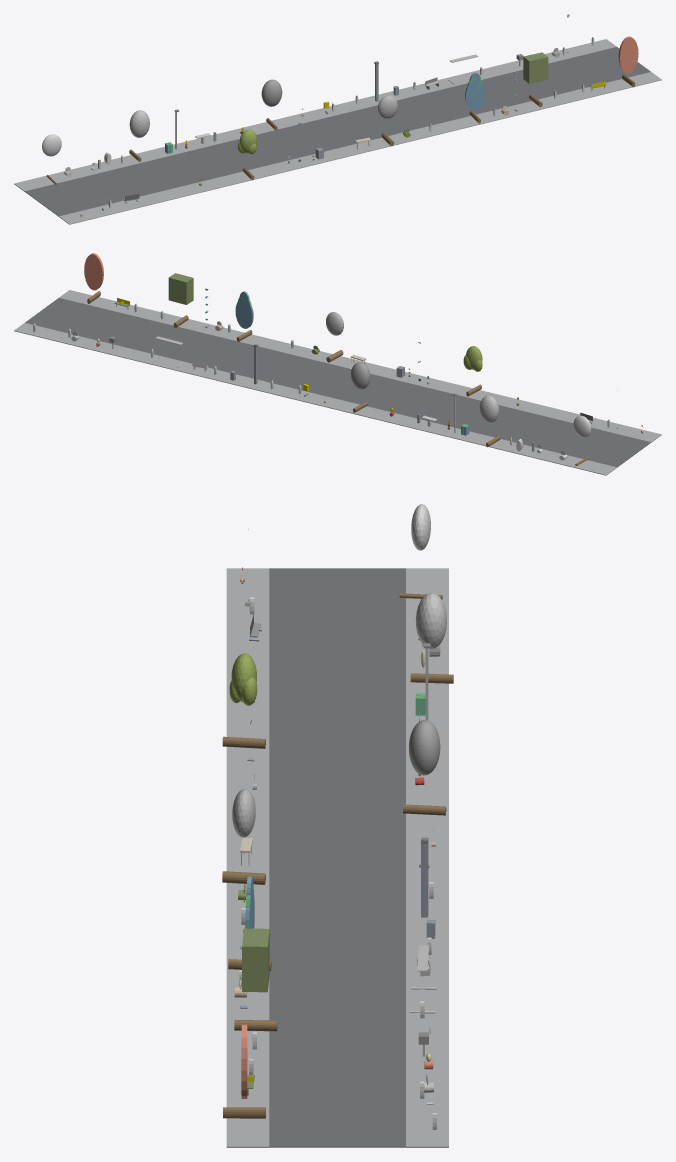
3 views of the same model, one above another, from view 1: azimuth 30°, elevation 25°; view 2: azimuth 150°, elevation 25°; view 3: azimuth 270°, elevation 25° (orthographic). The views are drawn at different scales.
Parts seen in each view (by area): view 1: road_slab, sidewalk_left, sidewalk_right, inst_0024, inst_0025, inst_0023, inst_0019, inst_0021, inst_0020, inst_0022, inst_0018; view 2: road_slab, sidewalk_right, sidewalk_left, inst_0024, inst_0025, inst_0023, inst_0019, inst_0021, inst_0020, inst_0022, inst_0018; view 3: road_slab, sidewalk_right, sidewalk_left, inst_0024, inst_0021, inst_0019, inst_0020, inst_0022, inst_0025.
Boxes of the visible parts, x1,y1,x2,y2 form: road_slab: (24, 47, 650, 216); sidewalk_left: (59, 72, 661, 224); sidewalk_right: (14, 39, 616, 191); inst_0024: (523, 52, 548, 107); inst_0025: (618, 36, 638, 87); inst_0023: (465, 72, 485, 123); inst_0019: (129, 110, 149, 161); inst_0021: (261, 79, 282, 130); inst_0020: (237, 129, 257, 180); inst_0022: (377, 95, 397, 146); inst_0018: (42, 134, 61, 184); road_slab: (25, 298, 651, 467); sidewalk_right: (14, 323, 616, 475); sidewalk_left: (59, 290, 661, 442); inst_0024: (168, 273, 193, 327); inst_0025: (84, 253, 103, 303); inst_0023: (235, 291, 253, 341); inst_0019: (479, 395, 500, 447); inst_0021: (351, 362, 370, 412); inst_0020: (463, 346, 482, 396); inst_0022: (326, 312, 343, 362); inst_0018: (573, 415, 591, 465); road_slab: (269, 568, 405, 1147); sidewalk_right: (406, 568, 448, 1147); sidewalk_left: (226, 568, 269, 1147); inst_0024: (234, 928, 277, 1031); inst_0021: (403, 720, 446, 815); inst_0019: (410, 592, 453, 683); inst_0020: (222, 653, 265, 748); inst_0022: (222, 789, 265, 884); inst_0025: (223, 1024, 265, 1118).
Bounding box in the file's own units: 80 × 6.08 × 13.54.
